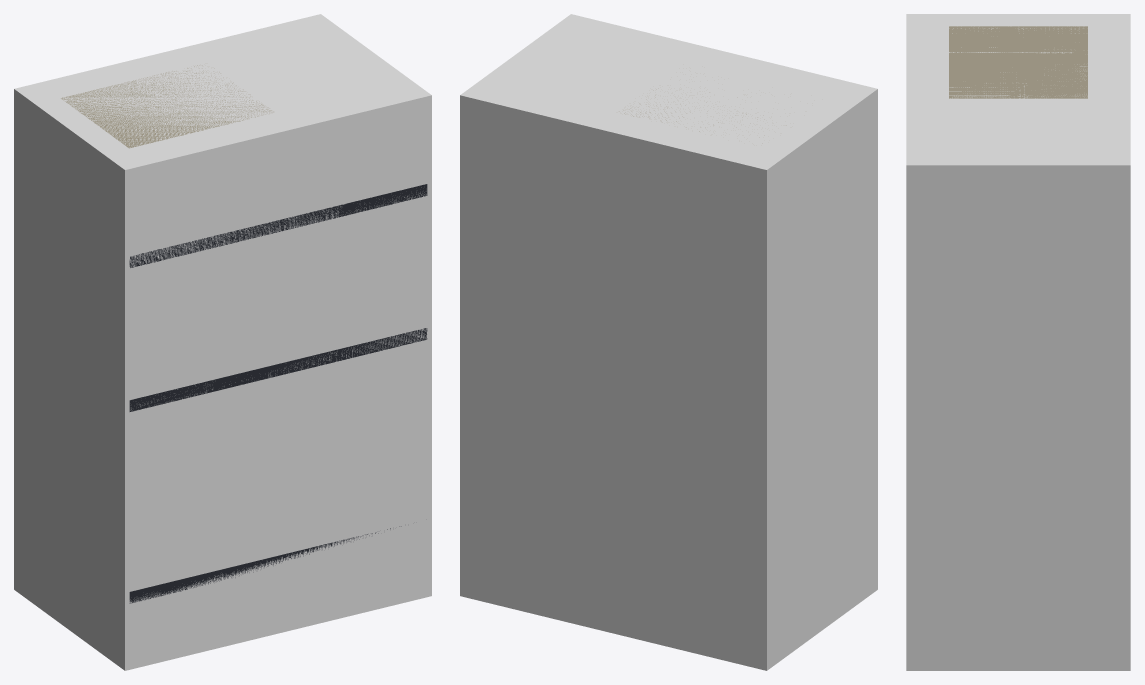
The model's file is Tech_ToolCart.glb.
3 renders of one model, left to right at view 1: azimuth 30°, elevation 25°; view 2: azimuth 150°, elevation 25°; view 3: azimuth 270°, elevation 25°, orthographic.
Visible parts, largest first — view 1: Tech_ToolCart_COL, Tech_ToolCart; view 2: Tech_ToolCart_COL; view 3: Tech_ToolCart_COL, Tech_ToolCart.
Boxes of the visible parts, x1=… form: Tech_ToolCart_COL: x1=14, y1=14, x2=431, y2=670; Tech_ToolCart: x1=61, y1=65, x2=427, y2=603; Tech_ToolCart_COL: x1=460, y1=14, x2=877, y2=670; Tech_ToolCart_COL: x1=906, y1=14, x2=1130, y2=670; Tech_ToolCart: x1=949, y1=26, x2=1087, y2=98.
Bounding box in the file's own units: 0.67 × 1.04 × 0.42.
